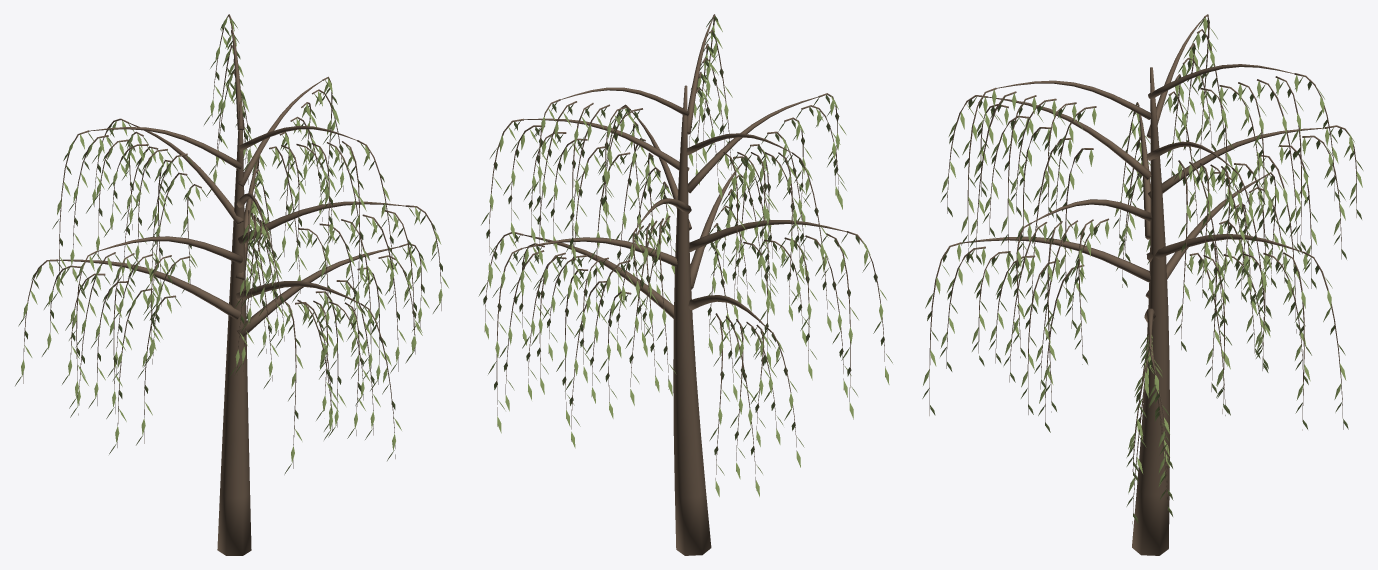
File: willow-lod1.glb
The picture shows the model from 3 angles, left to right: view 1: azimuth 30°, elevation 25°; view 2: azimuth 150°, elevation 25°; view 3: azimuth 270°, elevation 25°; orthographic projection. The views are drawn at different scales.
Visible parts, largest first — view 1: rooted trunk and branch hierarchy, three dimensional leaves; view 2: rooted trunk and branch hierarchy, three dimensional leaves; view 3: rooted trunk and branch hierarchy, three dimensional leaves.
Part boxes in pixels (box(x1,y1,x2,y2)): rooted trunk and branch hierarchy: box(23, 14, 441, 555); three dimensional leaves: box(15, 17, 448, 474); rooted trunk and branch hierarchy: box(484, 14, 885, 555); three dimensional leaves: box(478, 16, 892, 496); rooted trunk and branch hierarchy: box(929, 14, 1356, 555); three dimensional leaves: box(922, 17, 1363, 523).
Bounding box in the file's own units: 5.87 × 6.99 × 5.49.
